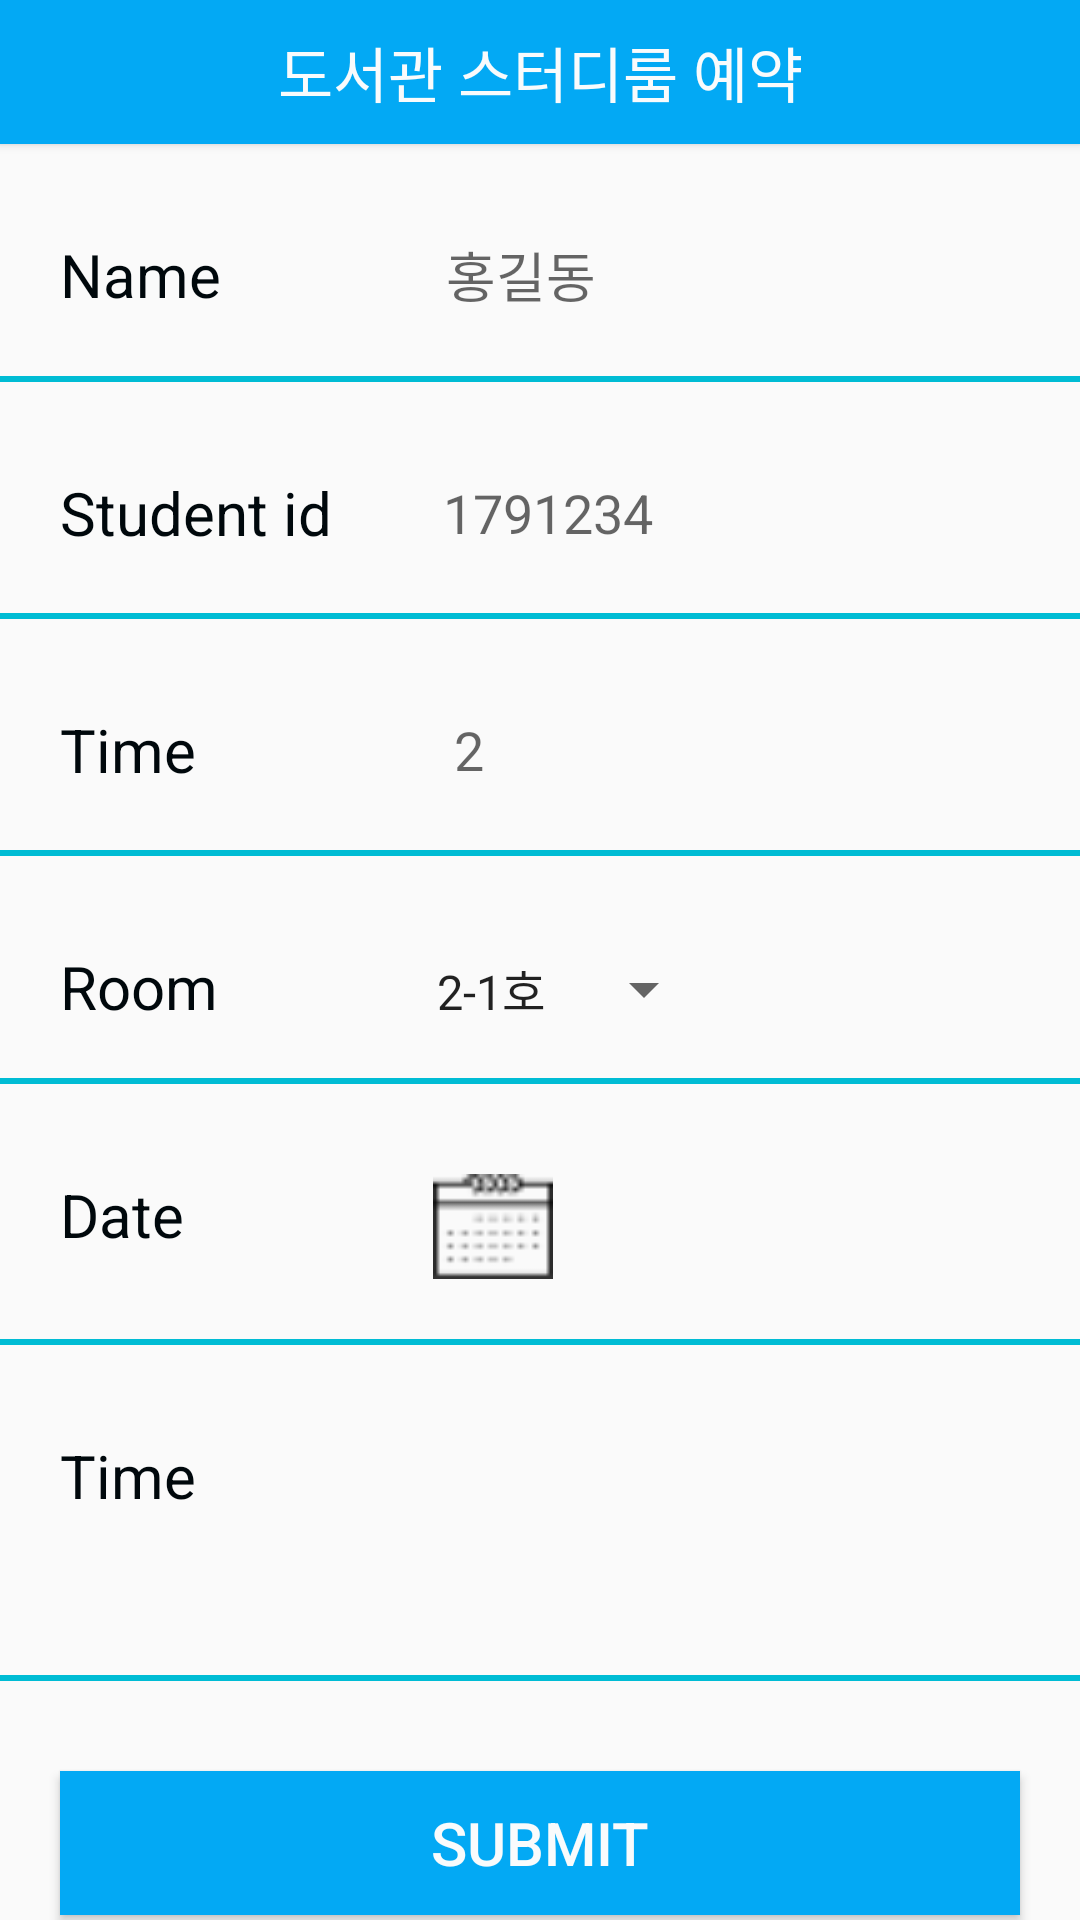

Screen size 1080 × 1920. Icon name, then its center in pixels as point (x, y):
calendar: point (493, 1226)
